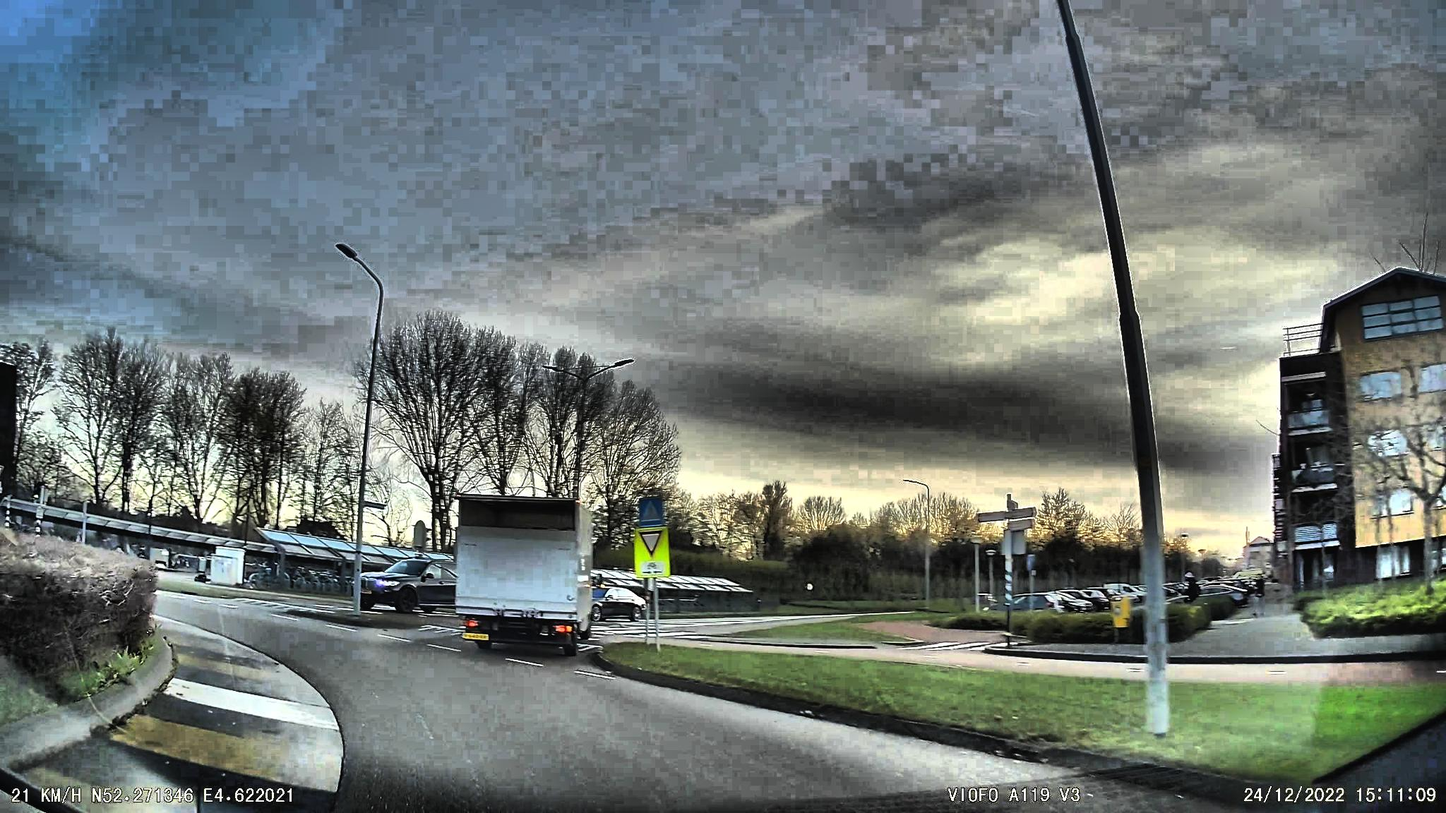Roads: (126, 606, 1245, 813)
